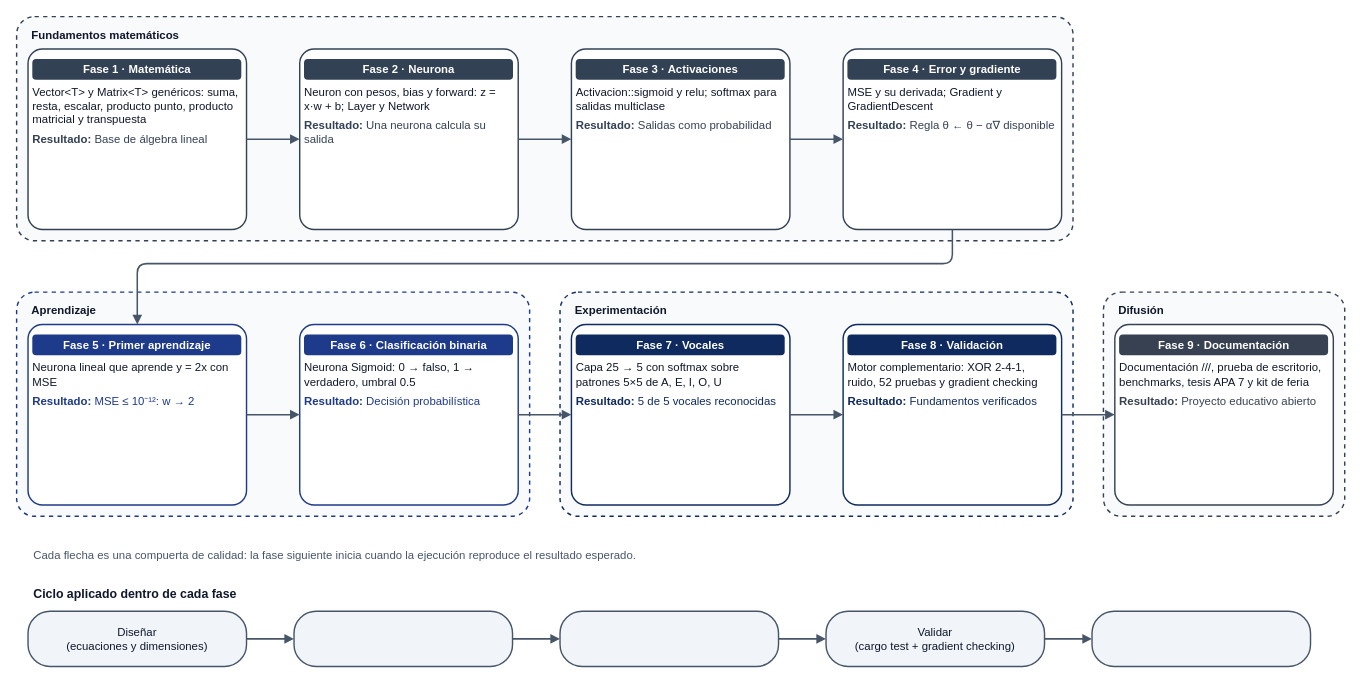
Some shapes in this 1362 by 684 pixel diagram are drawn without their labels. The centre of each missing label's shape, as x and y in pixels:
"Documentar evidencia (resultados/*.csv)" belongs at (x=1201, y=638).
"Ejecutar y observar (trazas por época)" belongs at (x=669, y=638).
"Implementar (Rust, sin crates de ML)" belongs at (x=403, y=638).
